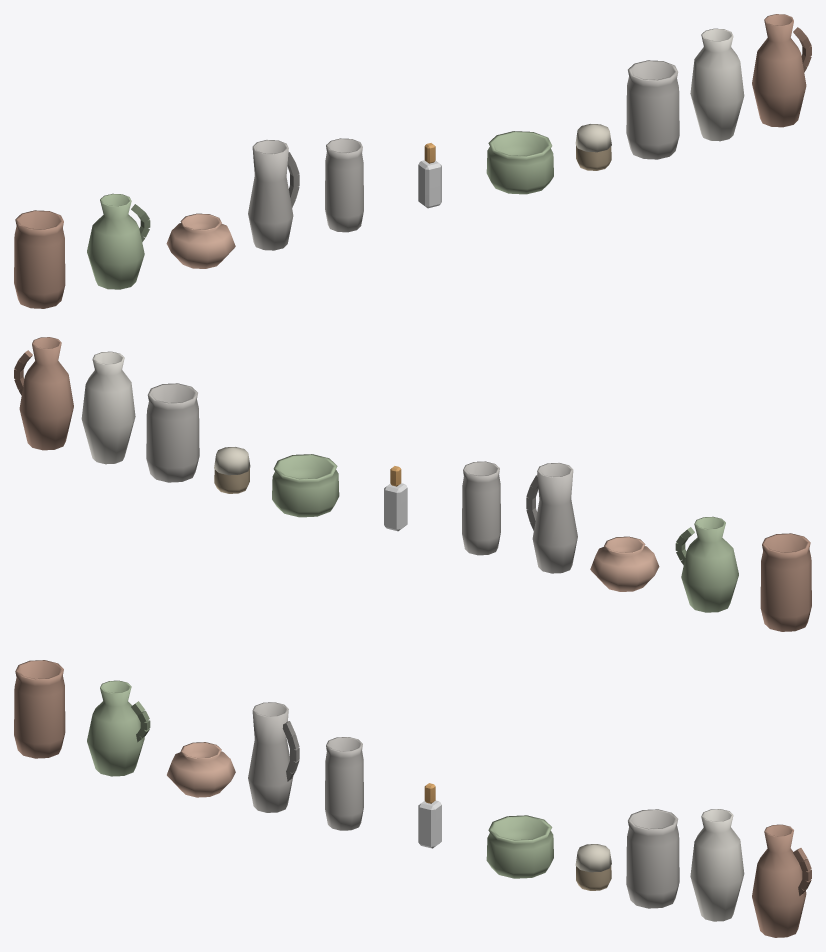
Rendered from mantel_crocks.glb.
3 renders of one model, top to bottom at view 1: azimuth 30°, elevation 25°; view 2: azimuth 150°, elevation 25°; view 3: azimuth 330°, elevation 25°, orthographic.
Visible parts, largest first — view 1: candle; view 2: candle; view 3: candle.
Boxes of the visible parts, x1,y1,x2,y2 form: candle: (14, 14, 811, 308); candle: (14, 337, 811, 631); candle: (14, 660, 811, 937).
Size of the model in its own units: 2.34 by 0.28 by 0.1696.
